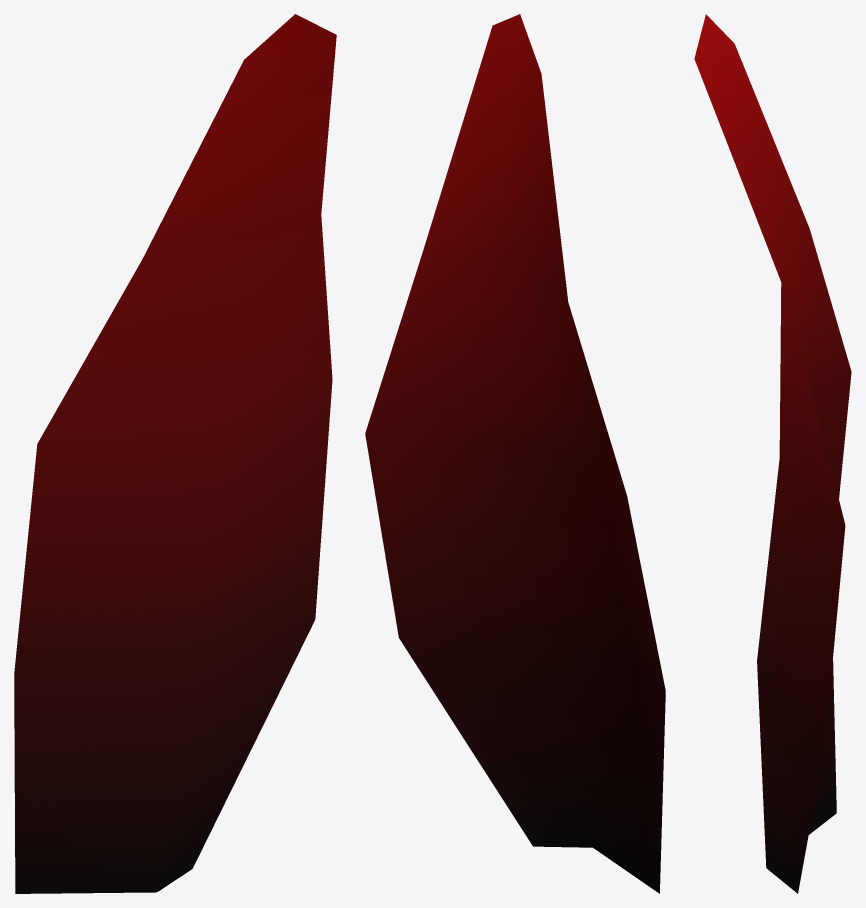
3 views of the same model, side by side, from view 1: azimuth 30°, elevation 25°; view 2: azimuth 150°, elevation 25°; view 3: azimuth 270°, elevation 25° (orthographic). The views are drawn at different scales.
Visible parts, largest first — view 1: Cystoseira.004; view 2: Cystoseira.004; view 3: Cystoseira.004.
Boxes of the visible parts, x1,y1,x2,y2 form: Cystoseira.004: (14, 14, 336, 893); Cystoseira.004: (365, 14, 665, 893); Cystoseira.004: (694, 14, 851, 893).
Bounding box in the file's own units: 0.3702 × 0.9496 × 0.1487.
